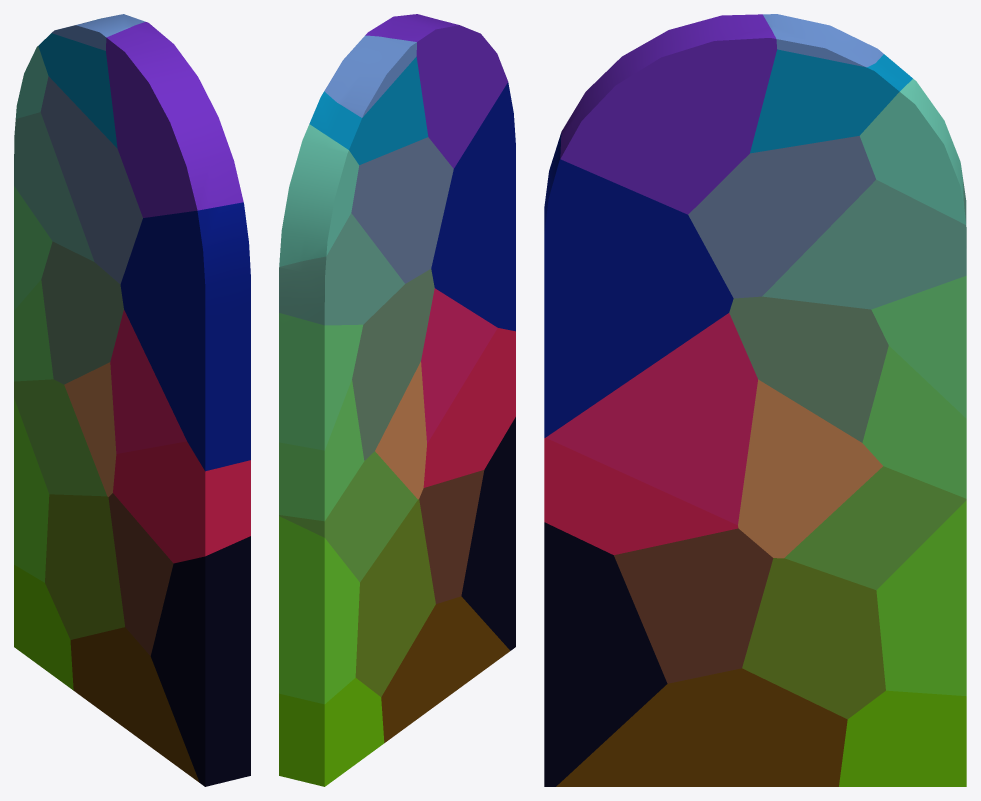
File: Door01.FBX
The picture shows the model from 3 angles, left to right: view 1: azimuth 30°, elevation 25°; view 2: azimuth 150°, elevation 25°; view 3: azimuth 270°, elevation 25°; orthographic projection. The views are drawn at different scales.
Parts seen in each view (by area): view 1: Object01; view 2: Object01; view 3: Object01.
Boxes of the visible parts, <box> form: Object01: <box>14,14,250,786</box>; Object01: <box>279,14,515,786</box>; Object01: <box>544,14,966,786</box>.
Bounding box in the file's own units: 0.829 × 11.75 × 6.
